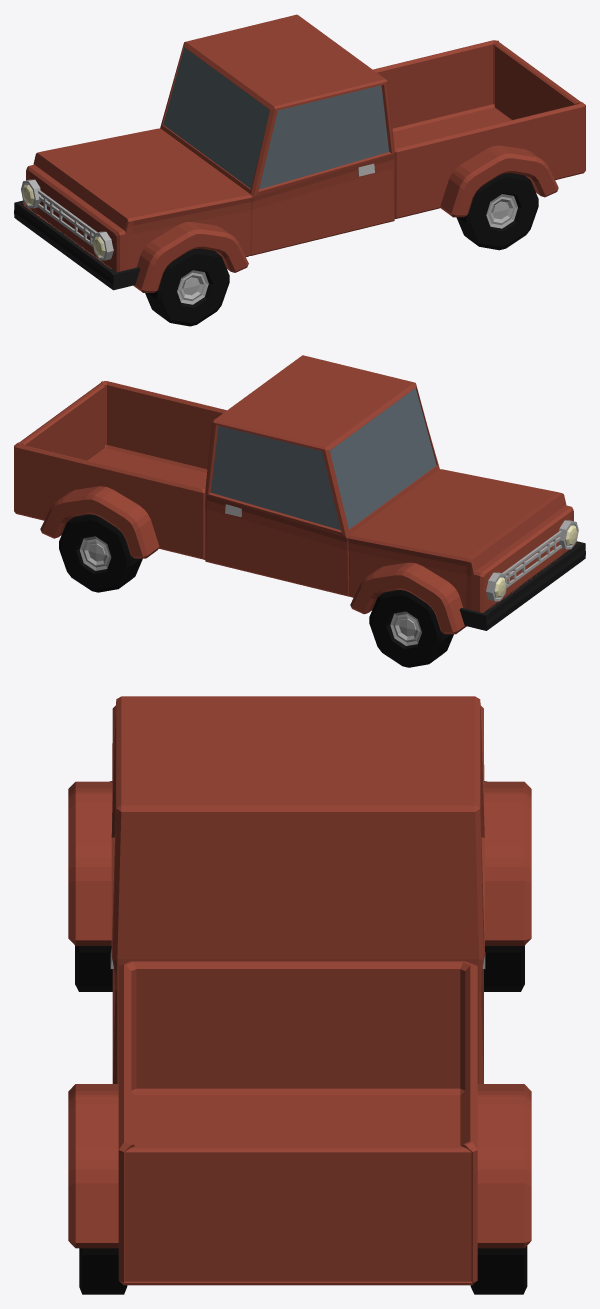
Rendered from pickup truck.glb.
The picture shows the model from 3 angles, top to bottom: view 1: azimuth 30°, elevation 25°; view 2: azimuth 150°, elevation 25°; view 3: azimuth 270°, elevation 25°; orthographic projection. The views are drawn at different scales.
Visible parts, largest first — view 1: BackLeftWheel; view 2: BackLeftWheel; view 3: BackLeftWheel.
Part boxes in pixels (left/top/right/bottom): BackLeftWheel: left=14, top=14, right=585, bottom=326; BackLeftWheel: left=14, top=355, right=585, bottom=667; BackLeftWheel: left=68, top=696, right=531, bottom=1294.
Size of the model in its own units: 17.95 by 6.75 by 7.49.
